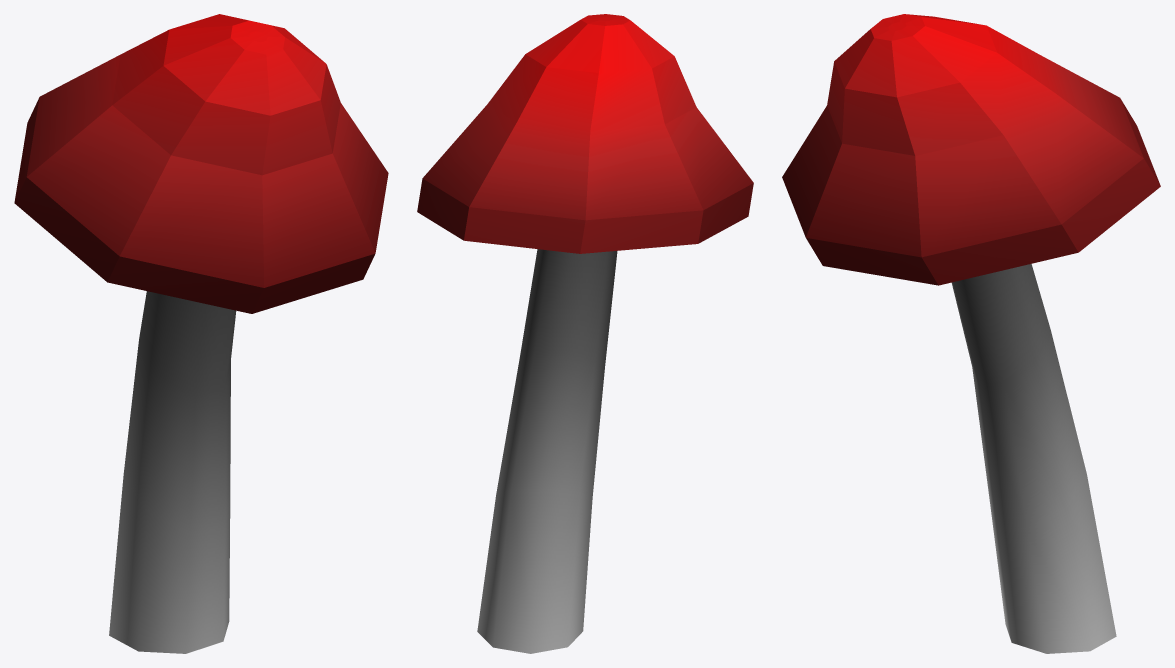
File: MushroomExtraMediumRed.FBX
3 views of the same model, side by side, from view 1: azimuth 30°, elevation 25°; view 2: azimuth 150°, elevation 25°; view 3: azimuth 270°, elevation 25° (orthographic). The views are drawn at different scales.
Parts seen in each view (by area): view 1: Cylinder009; view 2: Cylinder009; view 3: Cylinder009.
Part boxes in pixels (x1,y1,x2,y2): Cylinder009: (14, 14, 388, 653); Cylinder009: (417, 14, 753, 653); Cylinder009: (782, 14, 1160, 653).
Bounding box in the file's own units: 13.83 × 27.32 × 15.43.
